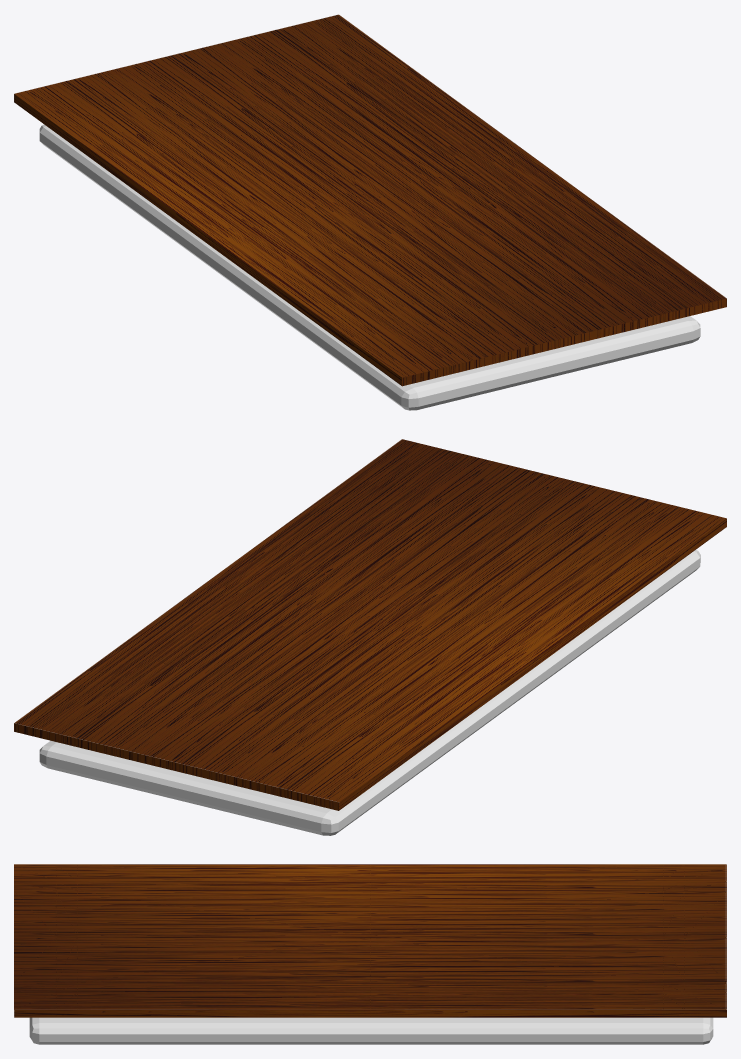
Rendered from ceiling_lamp.fbx.
3 views of the same model, one above another, from view 1: azimuth 30°, elevation 25°; view 2: azimuth 150°, elevation 25°; view 3: azimuth 270°, elevation 25° (orthographic). The views are drawn at different scales.
Parts seen in each view (by area): view 1: Base, Lamp; view 2: Base, Lamp; view 3: Base, Lamp.
Boxes of the visible parts, x1=… form: Base: x1=14, y1=14, x2=726, y2=386; Lamp: x1=39, y1=124, x2=700, y2=410; Base: x1=14, y1=439, x2=726, y2=810; Lamp: x1=39, y1=550, x2=700, y2=835; Base: x1=14, y1=864, x2=726, y2=1017; Lamp: x1=29, y1=1017, x2=713, y2=1044.
Size of the model in its own units: 797 by 112 by 1650.
